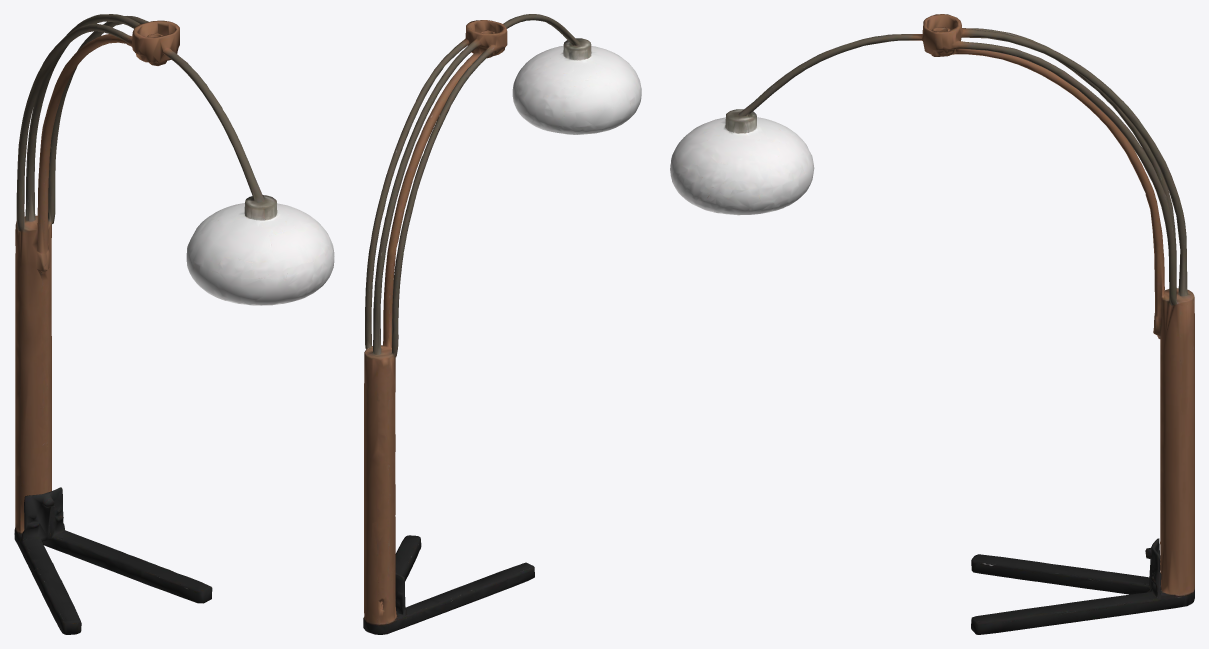
The model's file is fm_floor_lamp_arc.glb.
3 renders of one model, left to right at view 1: azimuth 30°, elevation 25°; view 2: azimuth 150°, elevation 25°; view 3: azimuth 270°, elevation 25°, orthographic. The views are drawn at different scales.
Visible parts, largest first — view 1: world; view 2: world; view 3: world.
Part boxes in pixels (<box>): world: <box>14,14,334,634</box>; world: <box>363,14,641,634</box>; world: <box>670,14,1194,634</box>.
Size of the model in its own units: 0.4672 by 1.8 by 1.48.
Materials: 1 (1 with a texture image).
